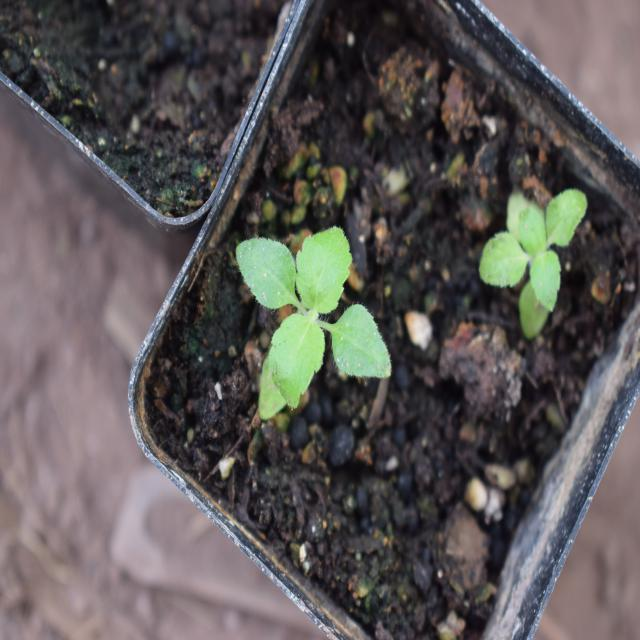billygoat_weed: (218, 205, 392, 420), (479, 146, 590, 349)
